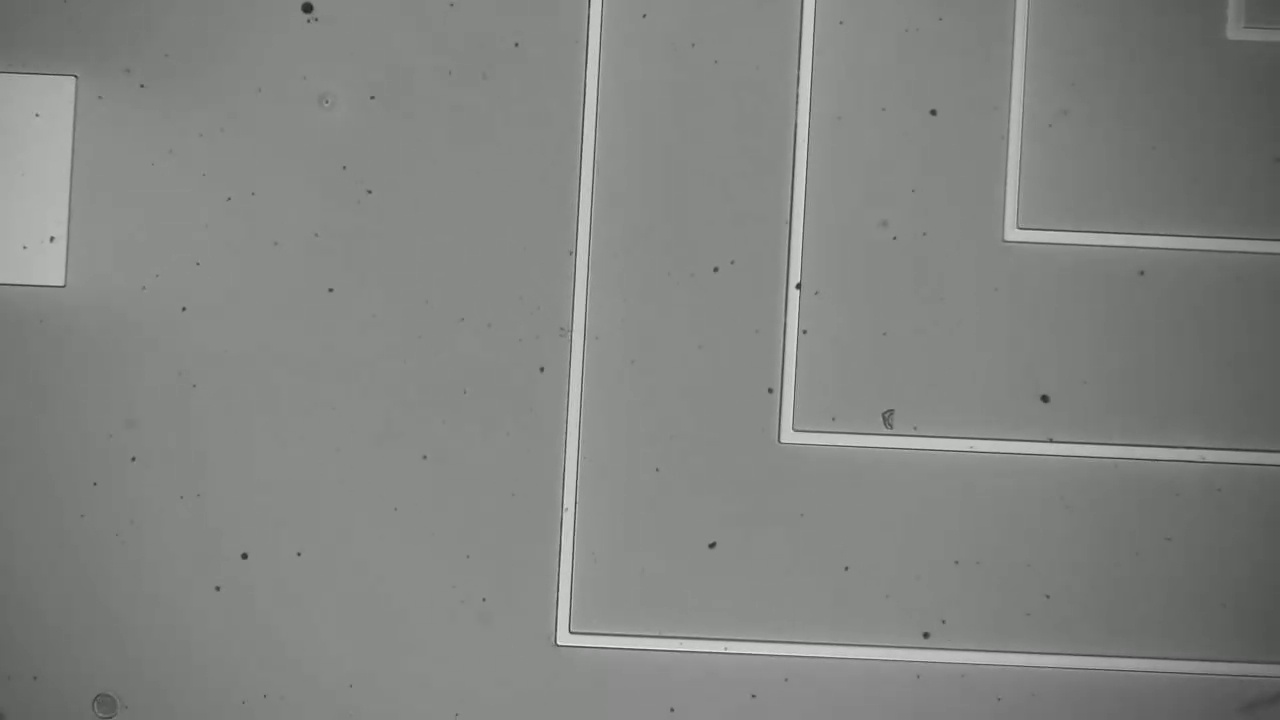stains_enbedded: (781, 274, 807, 299)
